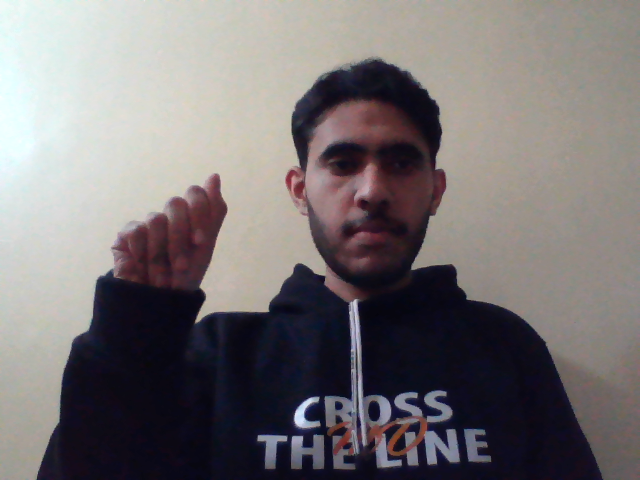A: (114, 172, 228, 296)
